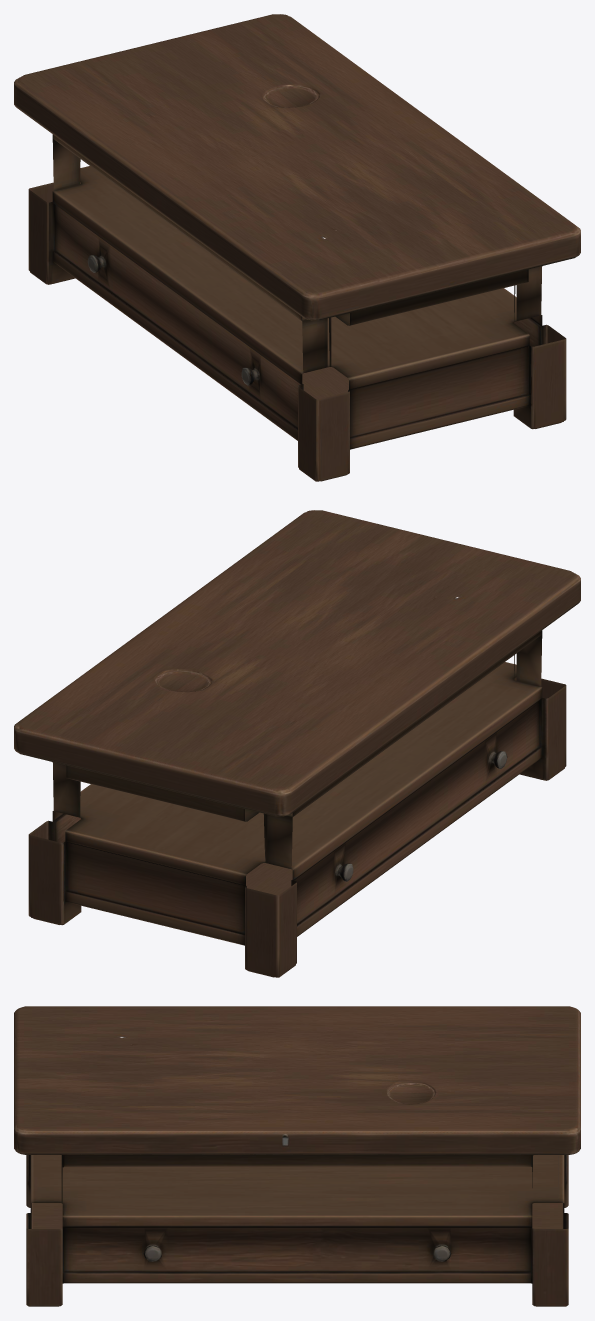
File: deleteme.glb
The picture shows the model from 3 angles, top to bottom: view 1: azimuth 30°, elevation 25°; view 2: azimuth 150°, elevation 25°; view 3: azimuth 270°, elevation 25°; orthographic projection. The views are drawn at different scales.
Parts seen in each view (by area): view 1: tripo_node_83e19f41-1230-4c17-91d4-34c217e0bf48; view 2: tripo_node_83e19f41-1230-4c17-91d4-34c217e0bf48; view 3: tripo_node_83e19f41-1230-4c17-91d4-34c217e0bf48.
Part boxes in pixels (x1=…): tripo_node_83e19f41-1230-4c17-91d4-34c217e0bf48: x1=14, y1=14, x2=580, y2=481; tripo_node_83e19f41-1230-4c17-91d4-34c217e0bf48: x1=14, y1=510, x2=580, y2=977; tripo_node_83e19f41-1230-4c17-91d4-34c217e0bf48: x1=14, y1=1006, x2=580, y2=1306.
Bounding box in the file's own units: 1.5 × 1 × 2.82.
Materials: 1 (1 with a texture image).
